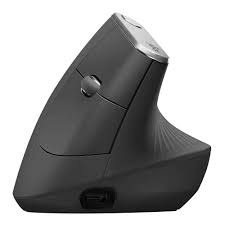mouse: (17, 10, 211, 217)
